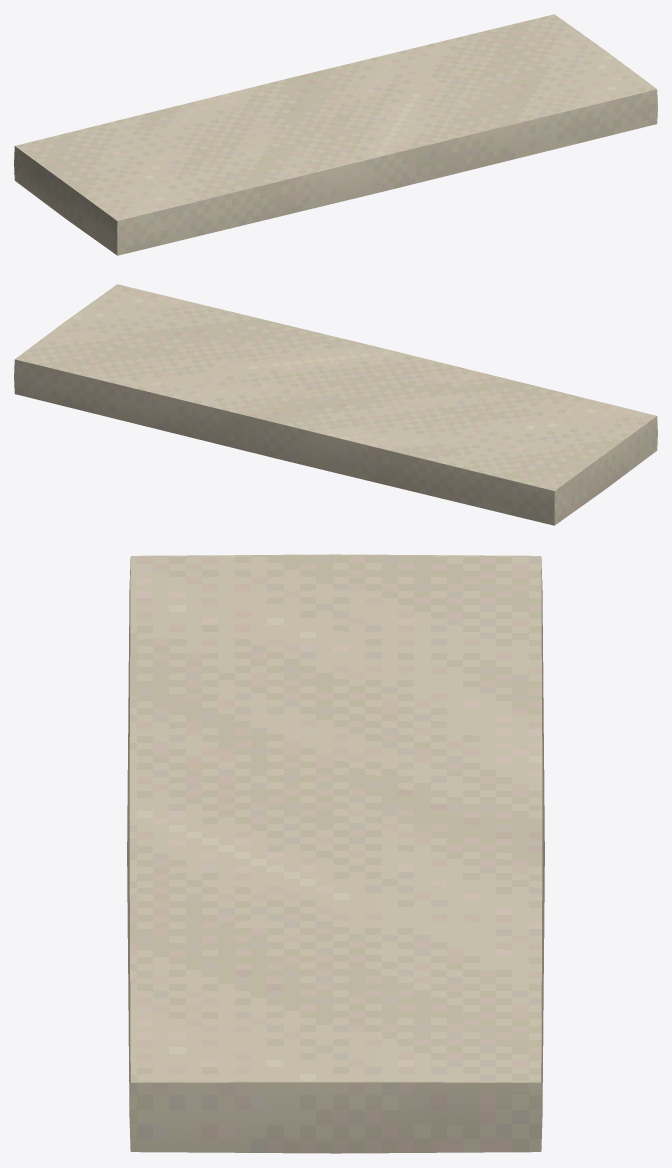
Rendered from shelf_floating_60_white.glb.
The picture shows the model from 3 angles, top to bottom: view 1: azimuth 30°, elevation 25°; view 2: azimuth 150°, elevation 25°; view 3: azimuth 270°, elevation 25°; orthographic projection. The views are drawn at different scales.
Visible parts, largest first — view 1: board; view 2: board; view 3: board.
Boxes of the visible parts, left/top/right/bottom form: board: left=14, top=14, right=657, bottom=255; board: left=14, top=284, right=657, bottom=525; board: left=127, top=554, right=544, bottom=1153.
Size of the model in its own units: 0.6 by 0.04 by 0.2.
Materials: 1 (1 with a texture image).
